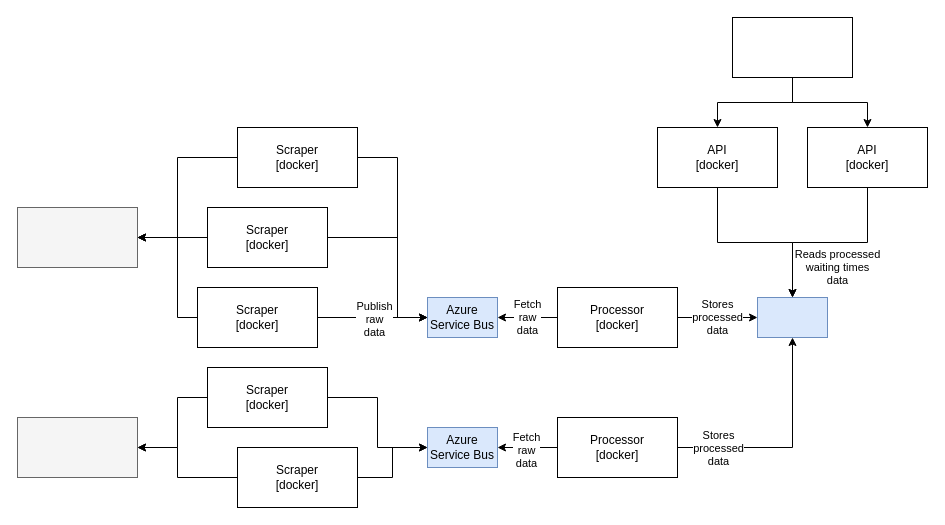
Some shapes in this 945 by 525 pixel diagram are drawn without their labels. The box of each missing label's shape, as (x1, y1, x2, y2) in pixels:
Azure Data Table: (756, 296, 828, 338)
Load balancer: (732, 16, 852, 78)
Looopings: (16, 206, 138, 268)
Other Source: (16, 416, 138, 478)
